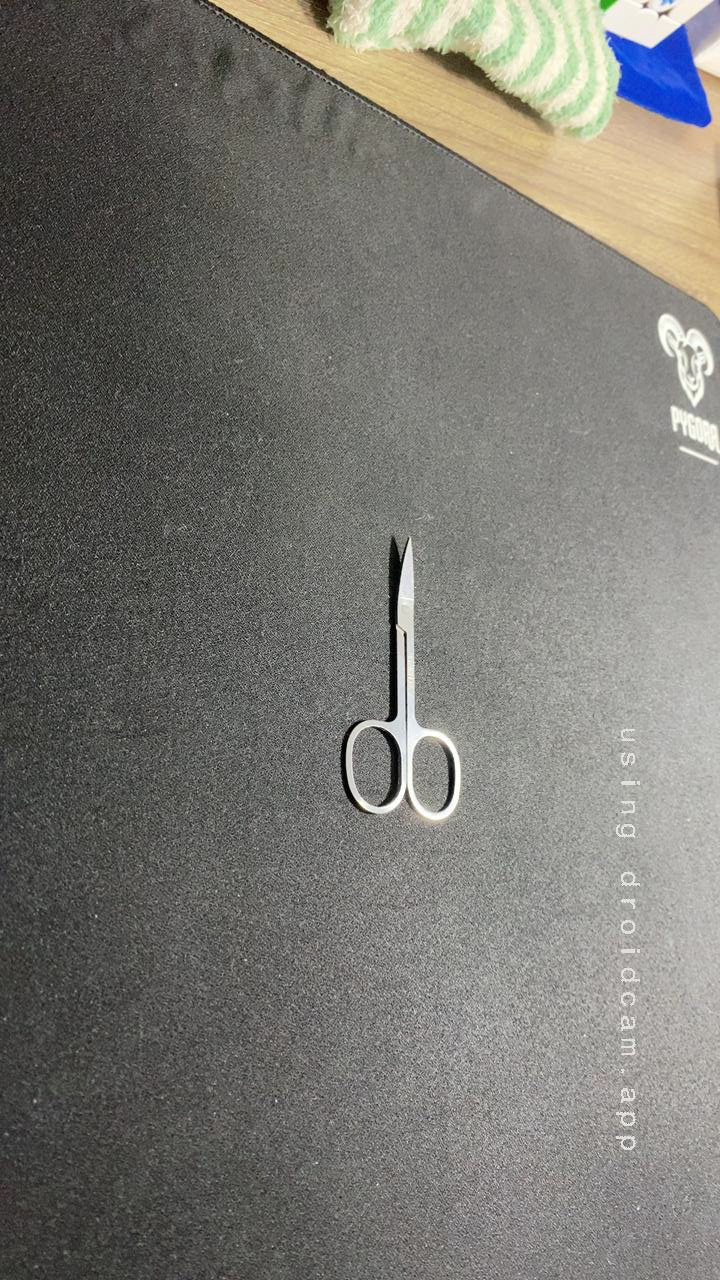scissor: (306, 524, 483, 835)
